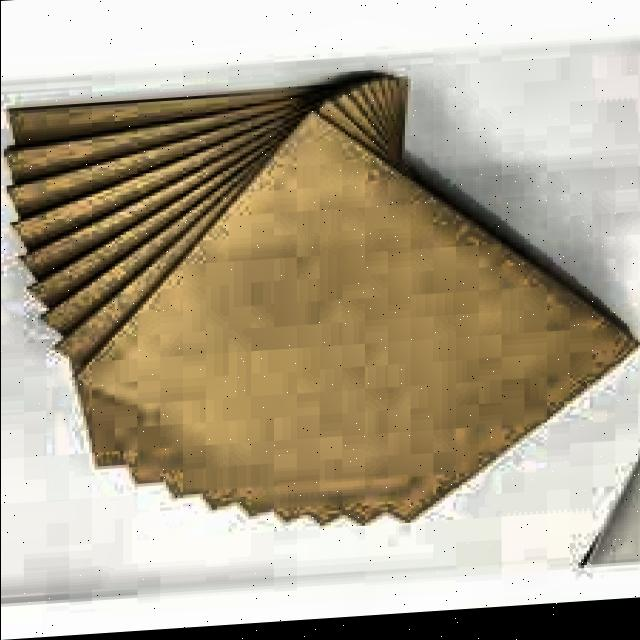cardboard: (0, 47, 640, 549)
